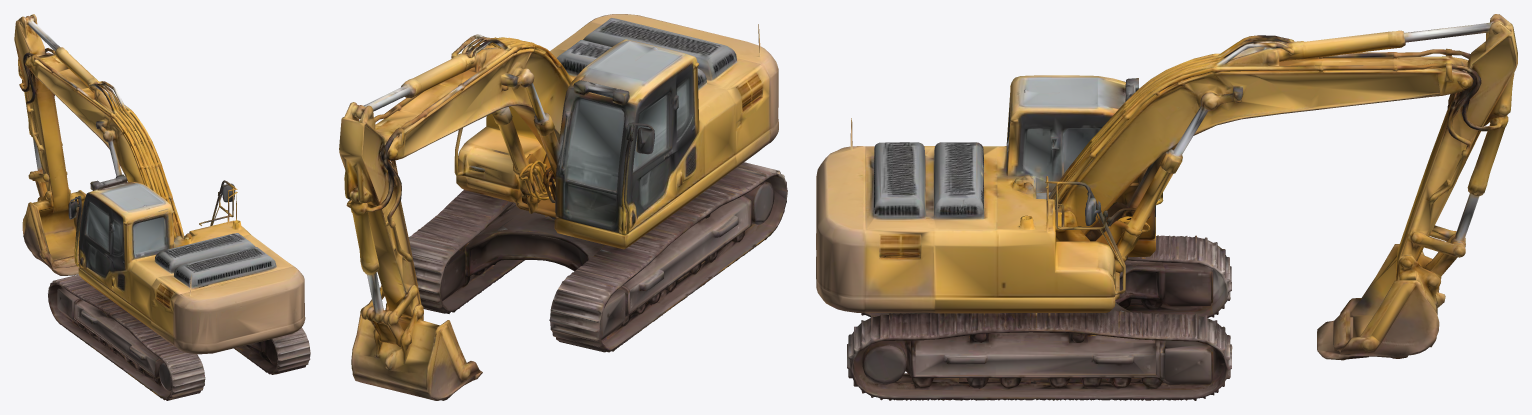
Rendered from load1-trackhoe.glb.
The picture shows the model from 3 angles, left to right: view 1: azimuth 30°, elevation 25°; view 2: azimuth 150°, elevation 25°; view 3: azimuth 270°, elevation 25°; orthographic projection. The views are drawn at different scales.
Parts seen in each view (by area): view 1: body; view 2: body; view 3: body.
Part boxes in pixels (<box>): body: <box>14,14,310,400</box>; body: <box>339,14,787,400</box>; body: <box>816,14,1517,400</box>.
Size of the model in its own units: 2.85 by 4.04 by 7.71.
1 material, 1 textured.
